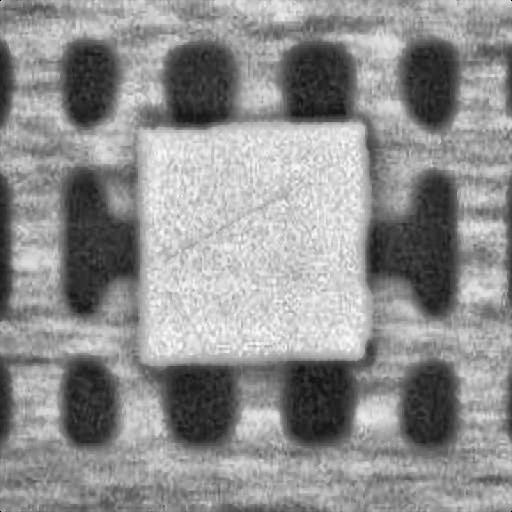DIE_CRACK: (247, 124, 435, 170)
